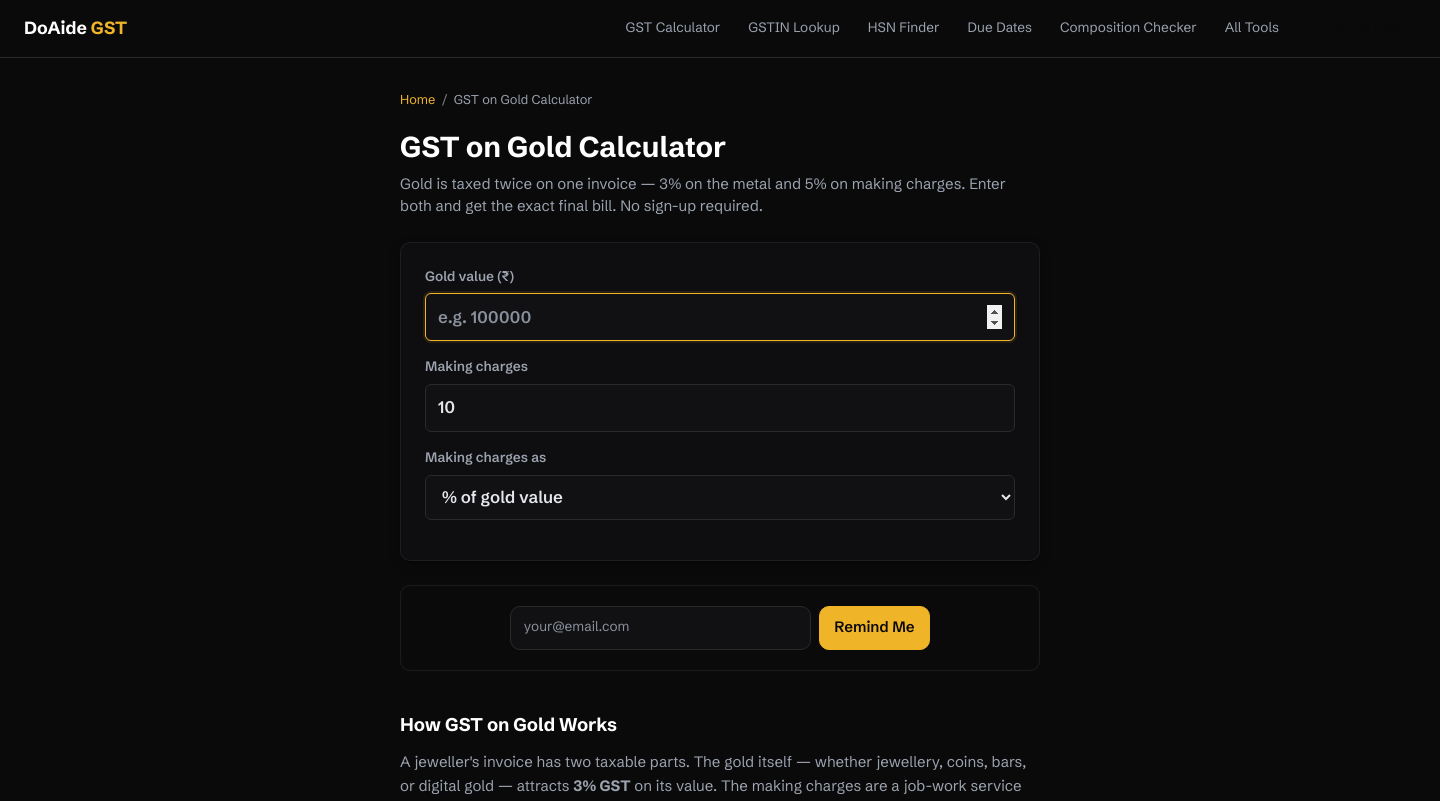
Test case: GstOnGoldPage › calculates the full bill for gold with 10% making charges
The image size is (1440, 801).
Type "100000" into the number field with placeholder "e.g. 100000". click: (720, 317)
box: left=425, top=293, right=1015, bottom=341
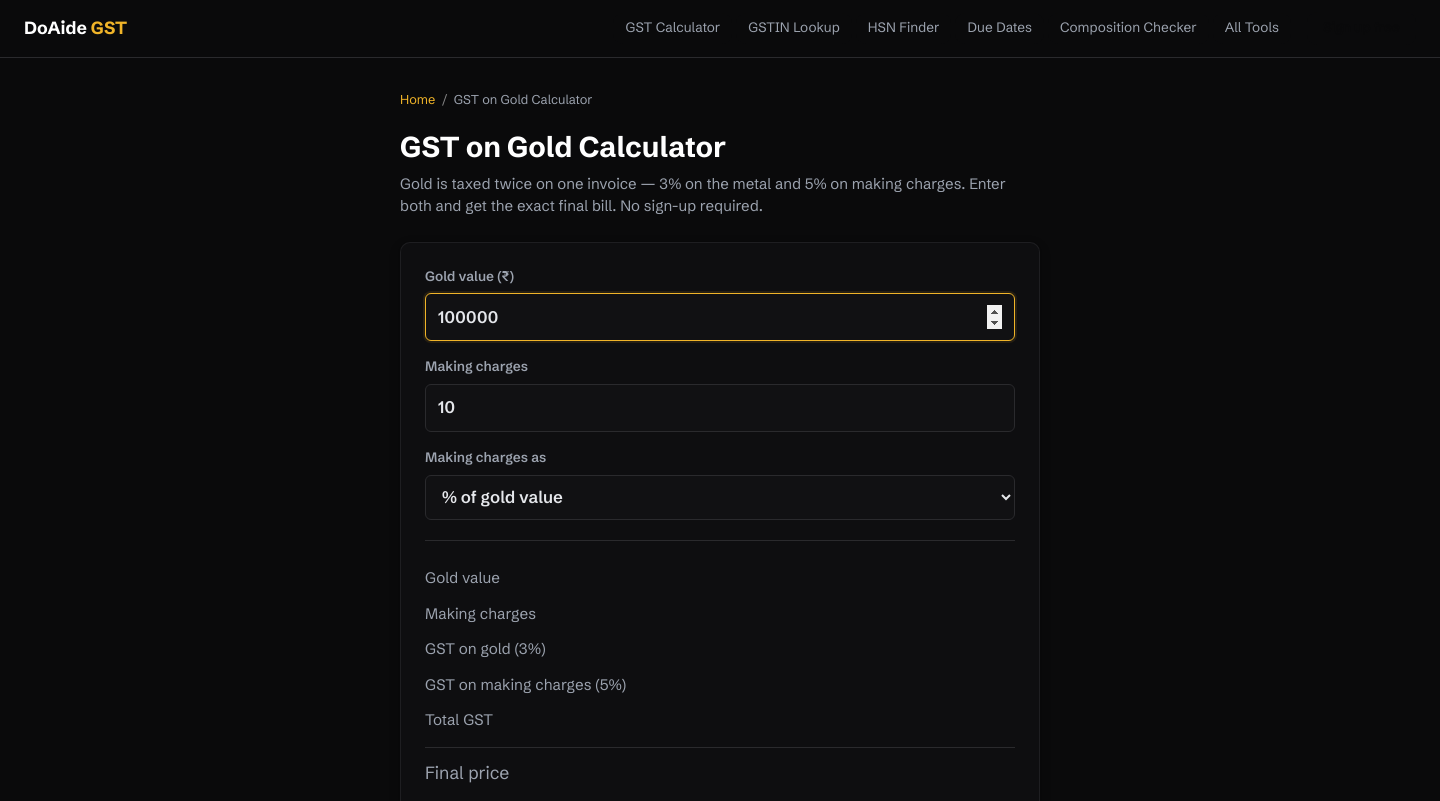
Now the text "GST on gold (3%)" is shown, box left=425, top=638, right=546, bottom=661
Now the text "GST on making charges (5%)" is shown, box left=425, top=674, right=626, bottom=696
